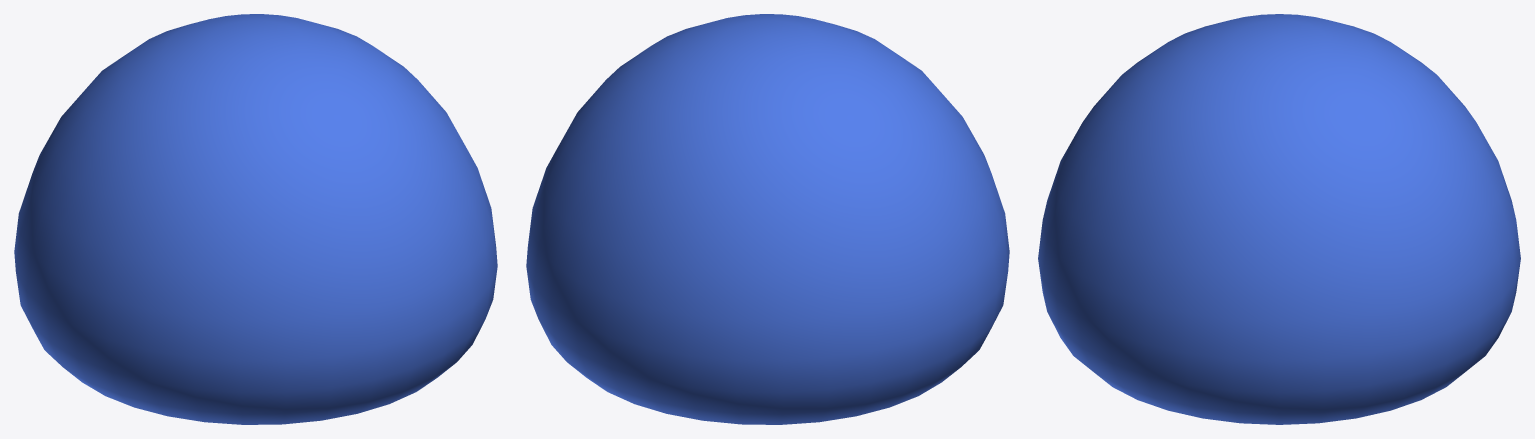
Rendered from slime.fbx.
3 renders of one model, left to right at view 1: azimuth 30°, elevation 25°; view 2: azimuth 150°, elevation 25°; view 3: azimuth 270°, elevation 25°, orthographic.
Parts seen in each view (by area): view 1: Skin 2; view 2: Skin 2; view 3: Skin 2.
Boxes of the visible parts, x1,y1,x2,y2 form: Skin 2: [14, 14, 497, 424]; Skin 2: [526, 14, 1009, 424]; Skin 2: [1038, 14, 1520, 424].
Size of the model in its own units: 200 by 200 by 148.
